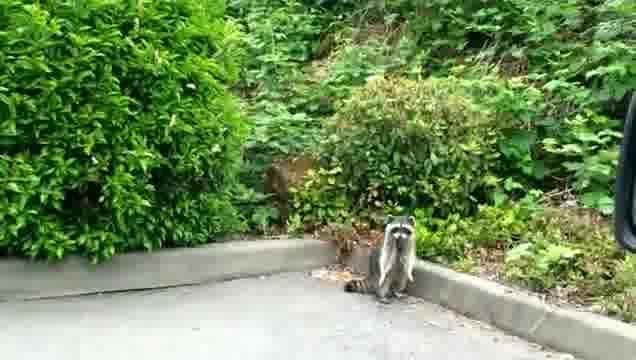raccoon: (344, 212, 421, 306)
